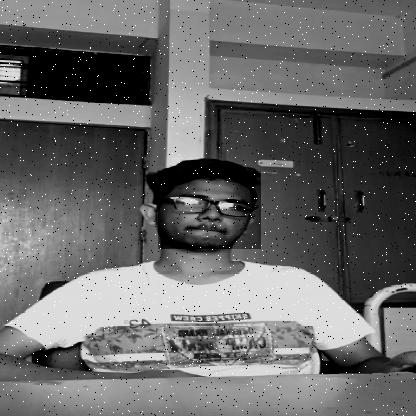Normal: (158, 171, 261, 249)
